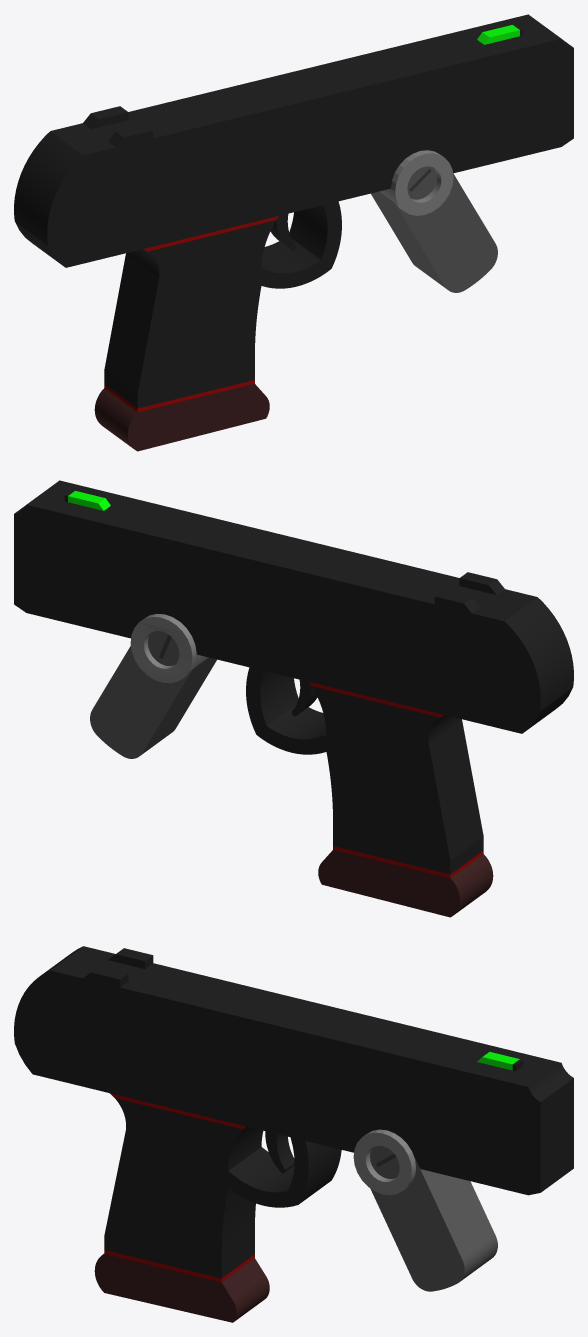
Rendered from as-76.gltf.gltf.
3 views of the same model, one above another, from view 1: azimuth 30°, elevation 25°; view 2: azimuth 150°, elevation 25°; view 3: azimuth 330°, elevation 25° (orthographic).
Visible parts, largest first — view 1: root; view 2: root; view 3: root.
Boxes of the visible parts, x1,y1,x2,y2 form: root: (14,14,573,451); root: (14,480,573,917); root: (14,946,573,1322).
Size of the model in its own units: 2.6 by 1.5 by 0.356.
